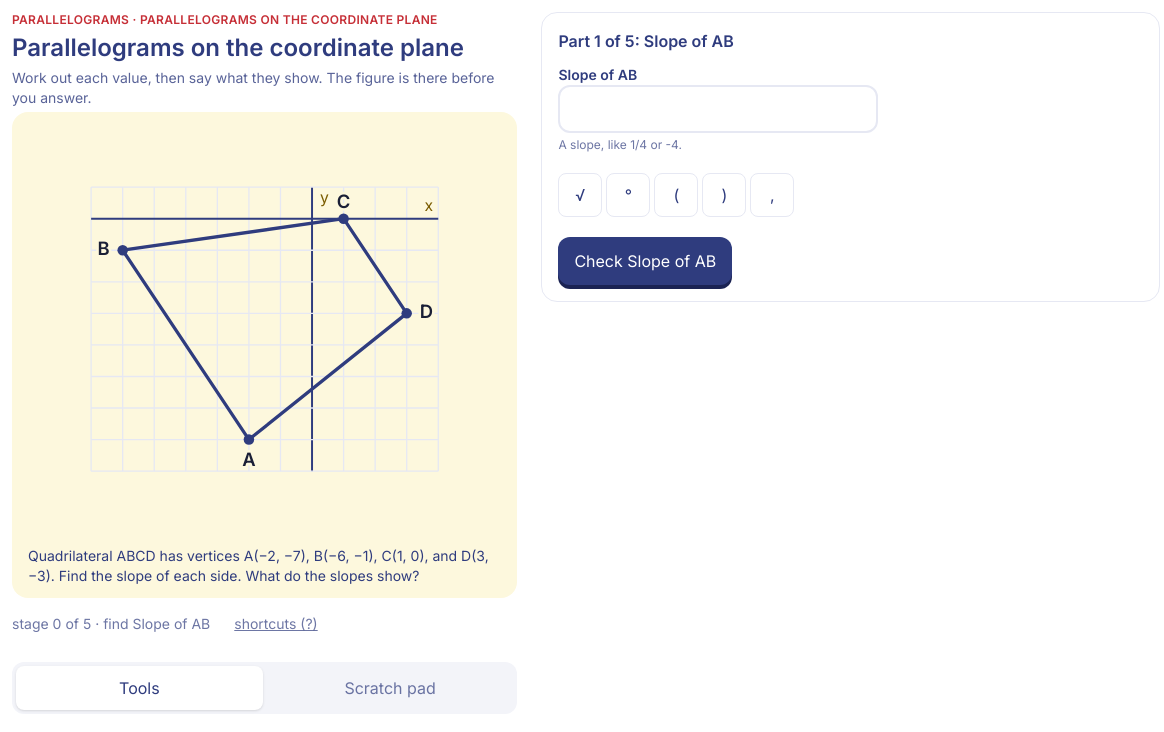
GeometryFlow unit 5 geoParallelograms/gq.coords › an unreadable answer records nothing
Click the button "Check Slope of AB". click: click(645, 261)
box: x1=558 y1=237 x2=732 y2=285
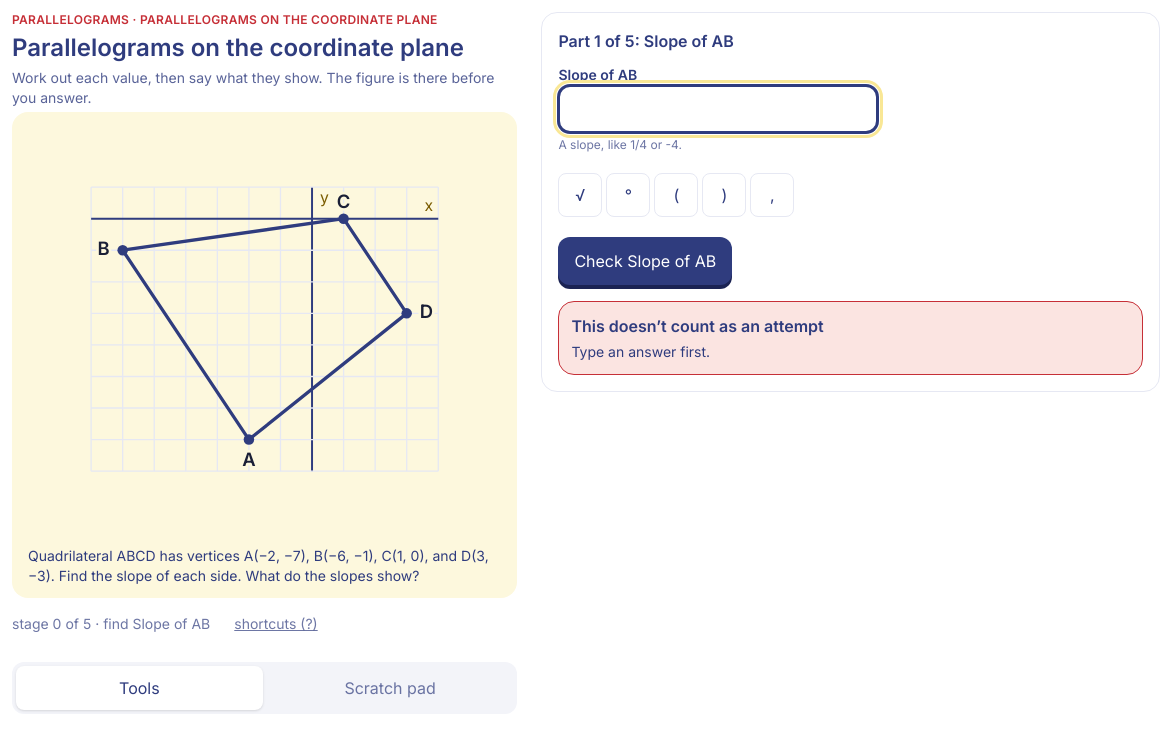
Check: the message shows "This doesn’t count as an attempt", box x1=571 y1=316 x2=824 y2=336
Type "???" into the field labelled "Slope of AB". click: (718, 109)
box: x1=558 y1=85 x2=878 y2=133
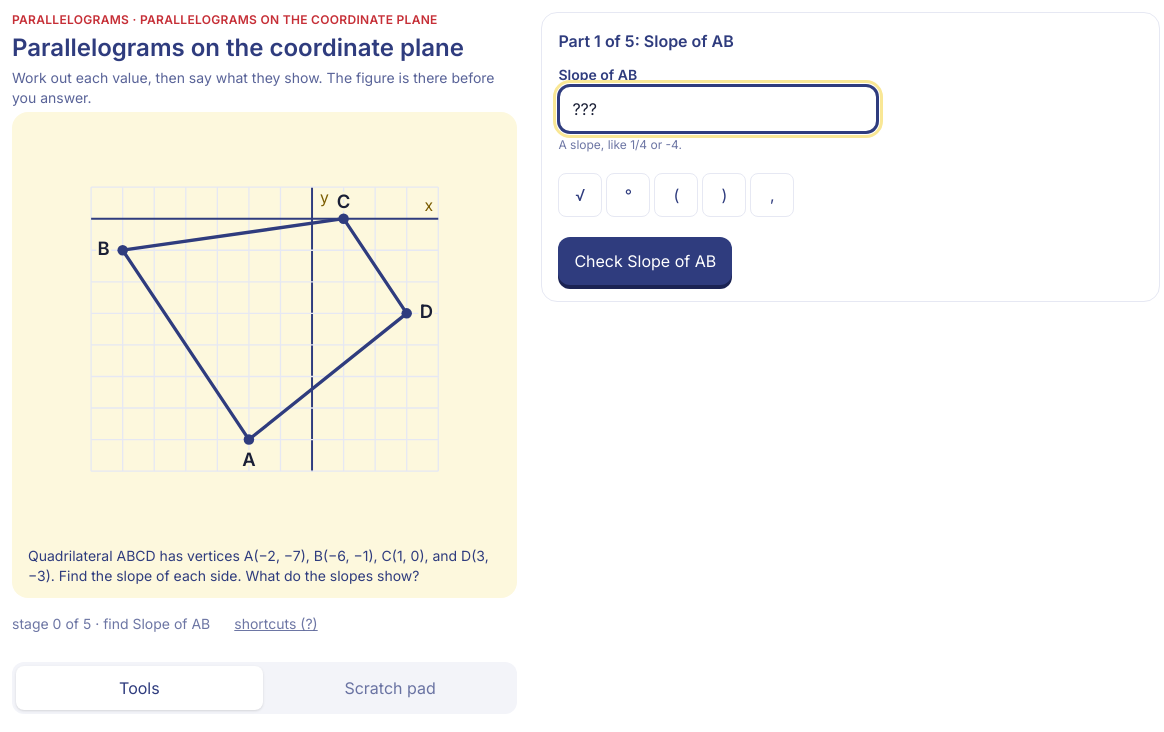
Check: the message "This doesn’t count as an attempt Type an answer first." is gone
Click the button "Check Slope of AB". click: click(645, 261)
box: x1=558 y1=237 x2=732 y2=285
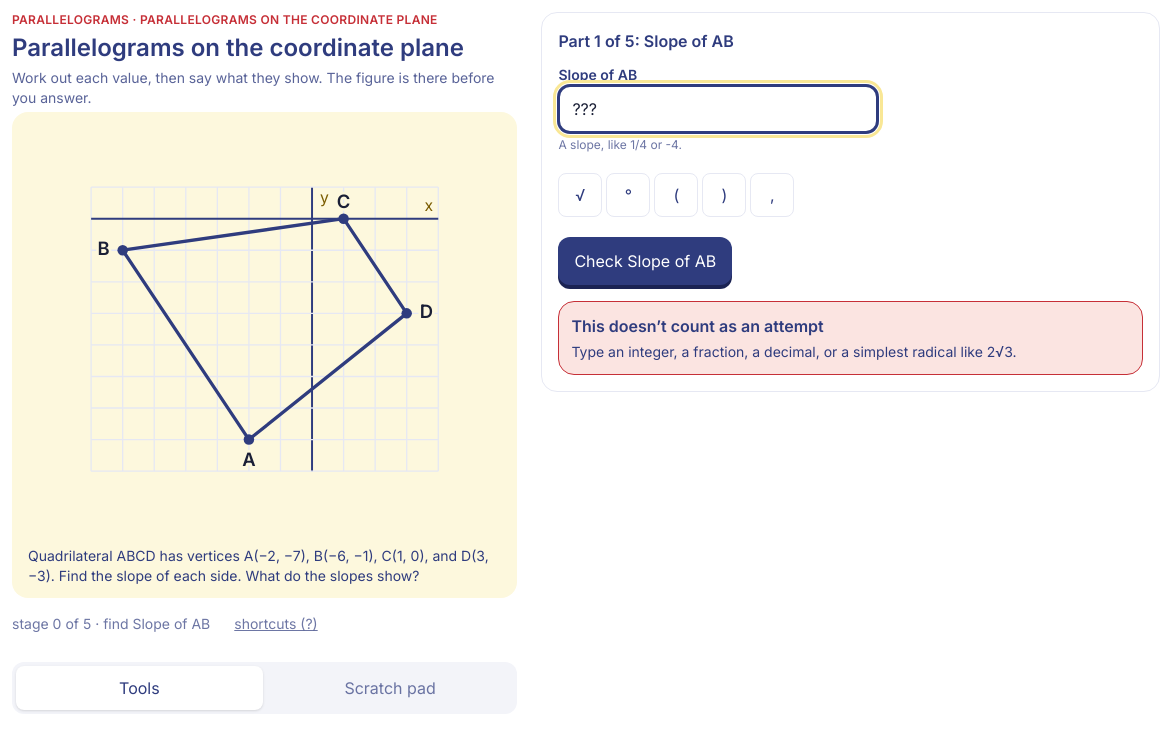
Check: the message shows "This doesn’t count as an attempt", box x1=571 y1=316 x2=824 y2=336
